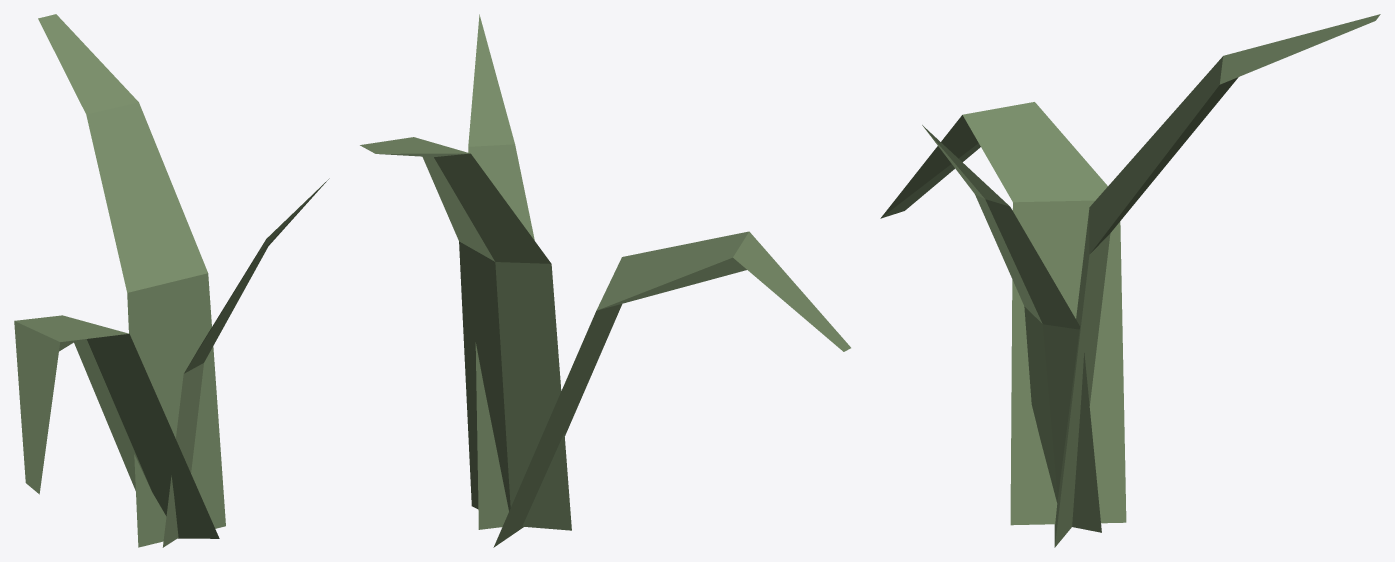
The model's file is grass.glb.
3 renders of one model, left to right at view 1: azimuth 30°, elevation 25°; view 2: azimuth 150°, elevation 25°; view 3: azimuth 270°, elevation 25°, orthographic. The views are drawn at different scales.
Visible parts, largest first — view 1: grass, grass.002, grass.001; view 2: grass, grass.002, grass.001; view 3: grass.002, grass, grass.001.
Boxes of the visible parts, x1,y1,x2,y2 form: grass: (38, 14, 225, 547); grass.002: (14, 315, 219, 538); grass.001: (162, 178, 329, 547); grass: (360, 137, 571, 530); grass.002: (493, 231, 850, 547); grass.001: (468, 14, 534, 529); grass.002: (880, 102, 1126, 525); grass: (1054, 14, 1380, 547); grass.001: (922, 125, 1101, 532).
Bounding box in the file's own units: 0.0187 × 0.0244 × 0.0217.
